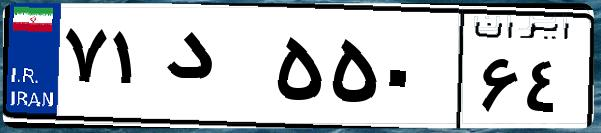0: (385, 28, 445, 110)
1: (110, 28, 158, 98)
4: (525, 38, 570, 115)
5: (270, 28, 330, 110), (330, 28, 385, 110)
6: (475, 38, 525, 113)
7: (57, 26, 110, 100)
د: (158, 20, 270, 120)
